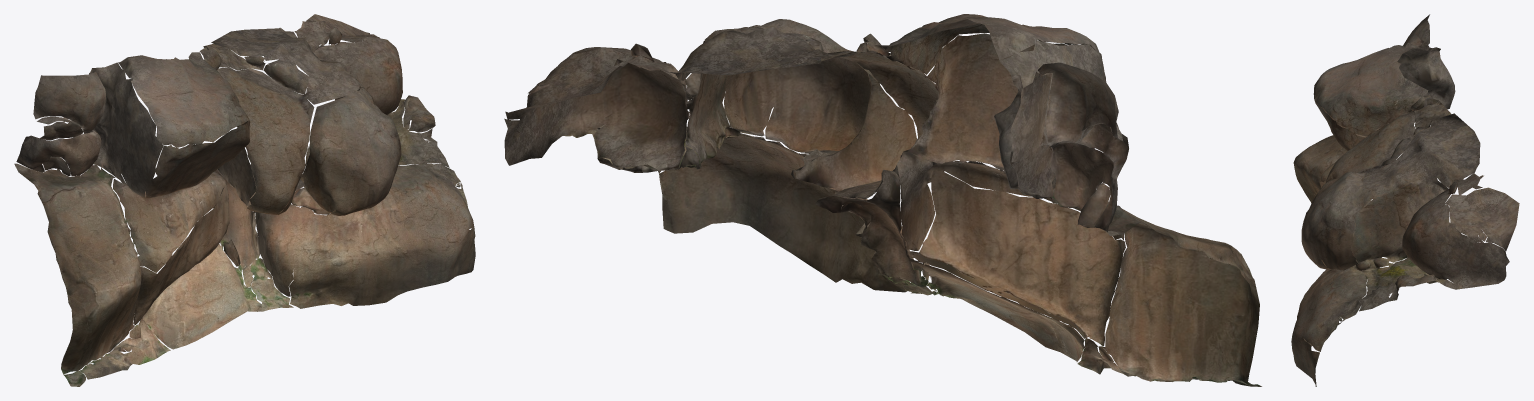
File: namaqualand-cliff.glb
3 renders of one model, left to right at view 1: azimuth 30°, elevation 25°; view 2: azimuth 150°, elevation 25°; view 3: azimuth 270°, elevation 25°, orthographic. The views are drawn at different scales.
Visible parts, largest first — view 1: drone_rock_01; view 2: drone_rock_01; view 3: drone_rock_01.
Boxes of the visible parts, <box> form: drone_rock_01: <box>14,14,475,386</box>; drone_rock_01: <box>504,14,1261,386</box>; drone_rock_01: <box>1291,14,1519,386</box>.
Size of the model in its own units: 8.26 by 4.96 by 4.38.
Materials: 1 (1 with a texture image).
